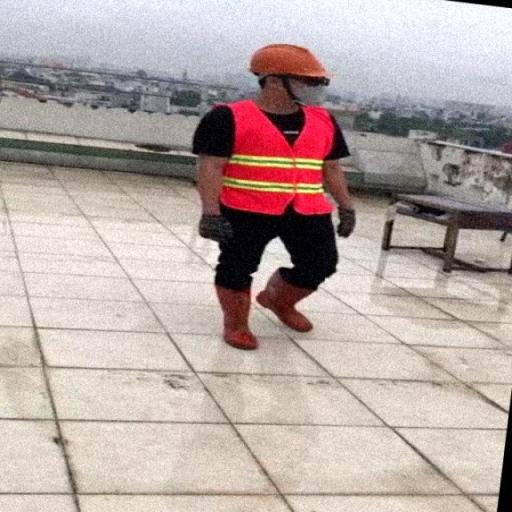Person: (174, 28, 364, 364)
boots: (254, 266, 318, 334), (214, 284, 260, 351)
gloves: (193, 210, 238, 248), (329, 206, 368, 240)
goggles: (278, 74, 340, 88)
helmet: (242, 44, 334, 86)
vest: (219, 98, 336, 210)
